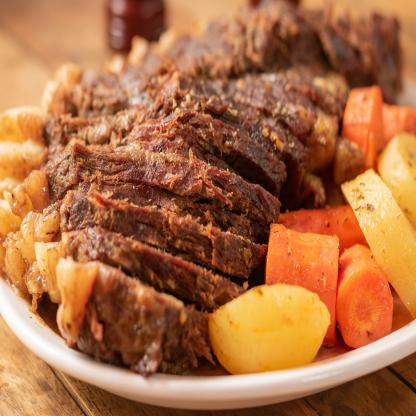Carne: (64, 148, 272, 239), (58, 198, 270, 284), (56, 226, 244, 310), (62, 264, 202, 369), (108, 109, 290, 189), (133, 64, 334, 106)
